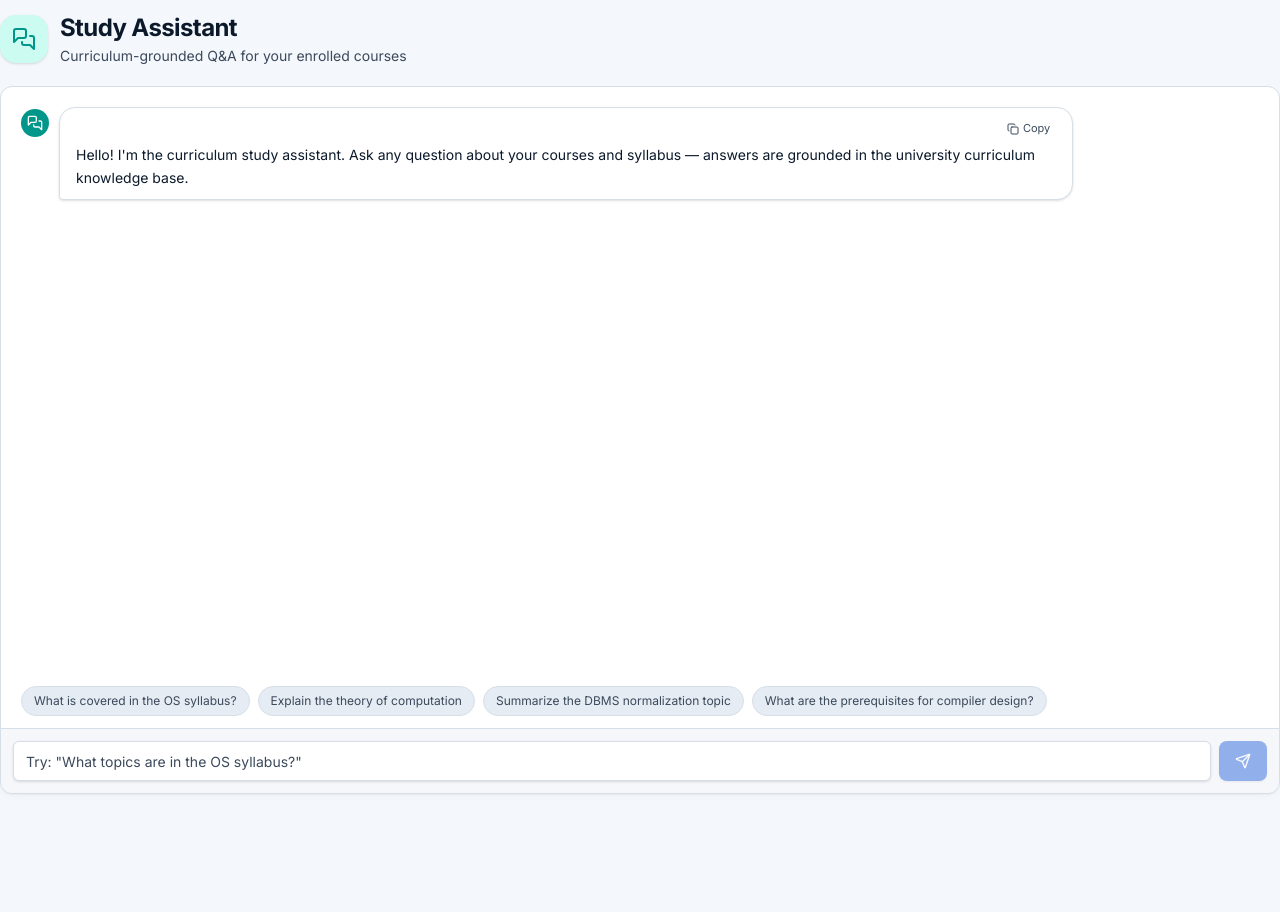
StudyAssist › shows error state on failure
Click the button "What is covered in the OS syllabus?". click: (135, 701)
box: [21,686,250,716]
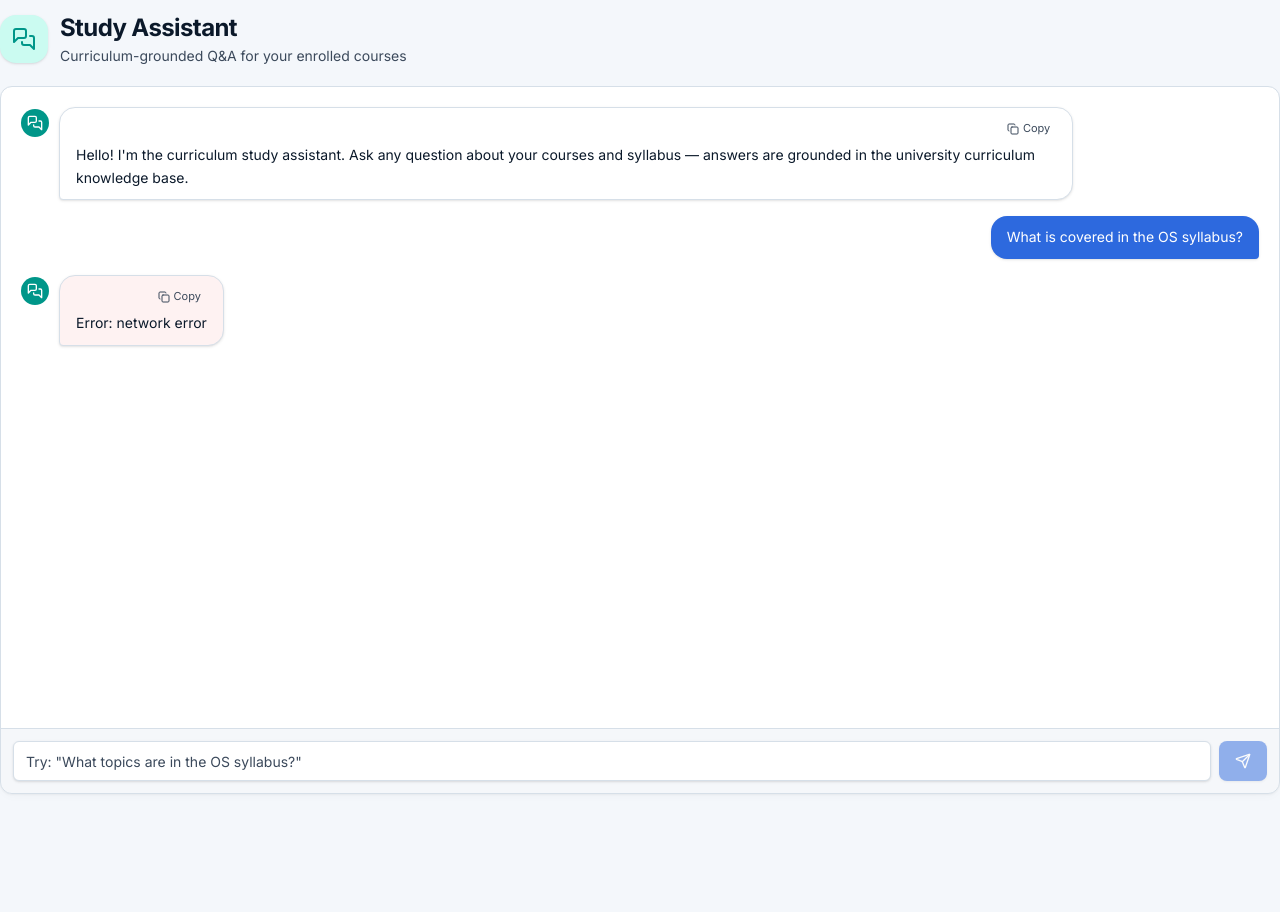
Now the text "Error: network error" is shown, box [76,312,207,335]
